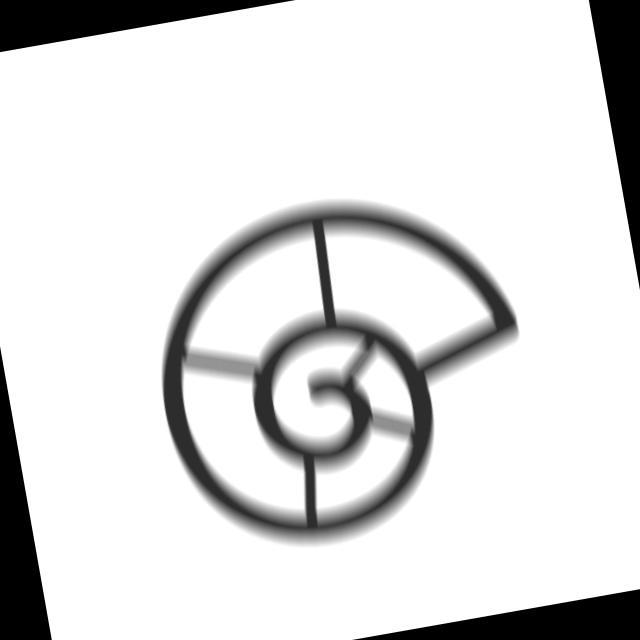fossil: (126, 162, 560, 577)
